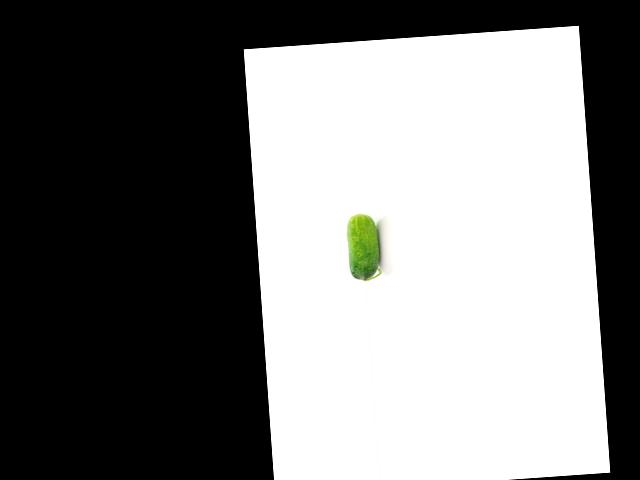cucumber: (345, 211, 382, 281)
